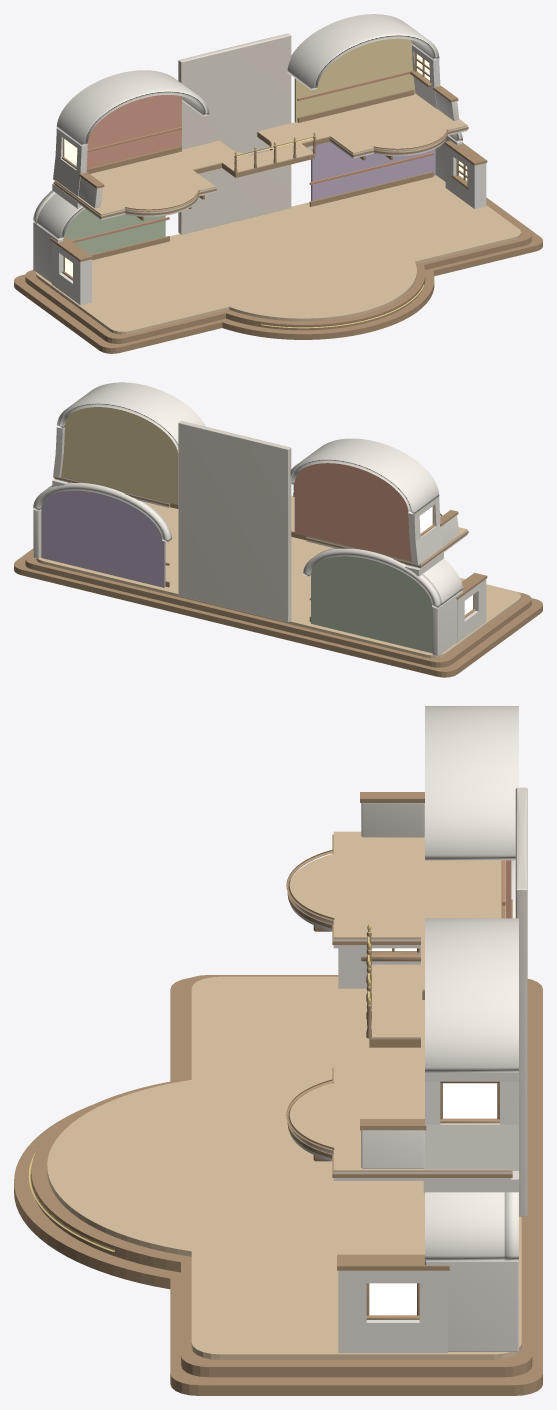
Rendered from workshop_shell.glb.
3 views of the same model, one above another, from view 1: azimuth 30°, elevation 25°; view 2: azimuth 150°, elevation 25°; view 3: azimuth 270°, elevation 25° (orthographic). The views are drawn at different scales.
Parts seen in each view (by area): view 1: Plinth_Base, Cutaway_Shell_1F, Studio_Themed_Walls, Floor_2F_Structure, Cutaway_Shell_2F, Window_Frames, WindowPane_Glow, Elevator_Landing_Front_Guard; view 2: Studio_Themed_Walls, Cutaway_Shell_1F, Plinth_Base, Cutaway_Shell_2F, Floor_2F_Structure, WindowPane_Glow; view 3: Plinth_Base, Cutaway_Shell_2F, Floor_2F_Structure, Cutaway_Shell_1F, WindowPane_Glow, Window_Frames.
Boxes of the visible parts, box(x1,y1,x2,y2) form: Plinth_Base: box(14, 175, 542, 353); Cutaway_Shell_1F: box(33, 33, 487, 305); Studio_Themed_Walls: box(64, 38, 435, 260); Floor_2F_Structure: box(53, 93, 468, 220); Cutaway_Shell_2F: box(53, 14, 459, 208); Window_Frames: box(62, 51, 468, 280); WindowPane_Glow: box(64, 54, 467, 276); Elevator_Landing_Front_Guard: box(234, 132, 315, 173); Studio_Themed_Walls: box(41, 407, 432, 653); Cutaway_Shell_1F: box(33, 421, 487, 656); Plinth_Base: box(14, 502, 542, 677); Cutaway_Shell_2F: box(53, 382, 459, 565); Floor_2F_Structure: box(53, 476, 468, 568); WindowPane_Glow: box(419, 506, 472, 614); Plinth_Base: box(14, 975, 542, 1395); Cutaway_Shell_2F: box(360, 706, 518, 1170); Floor_2F_Structure: box(286, 831, 512, 1180); Cutaway_Shell_1F: box(337, 787, 527, 1352); WindowPane_Glow: box(369, 948, 497, 1315); Window_Frames: box(361, 948, 499, 1319).
Size of the model in its own units: 14.56 by 5.98 by 7.98.
